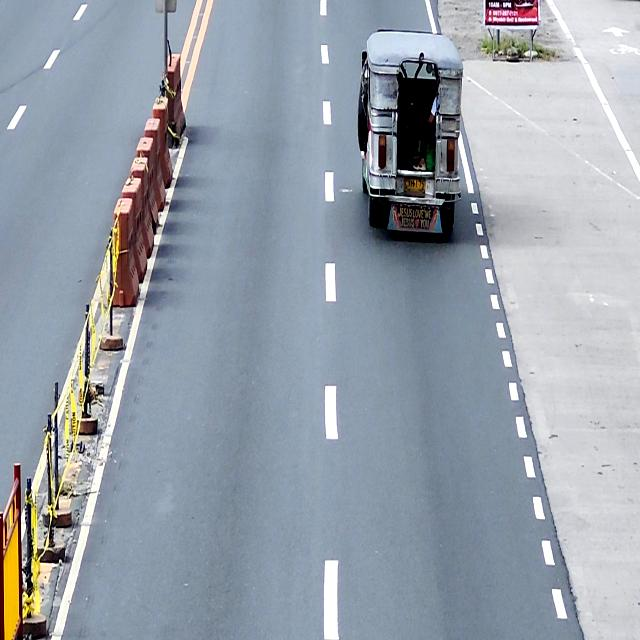Jeep: (356, 28, 464, 235)
License-Plate: (402, 172, 428, 199)
